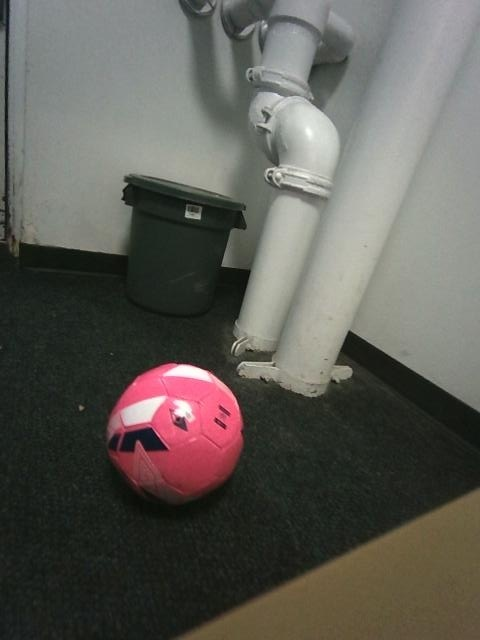ball: (107, 363, 242, 503)
